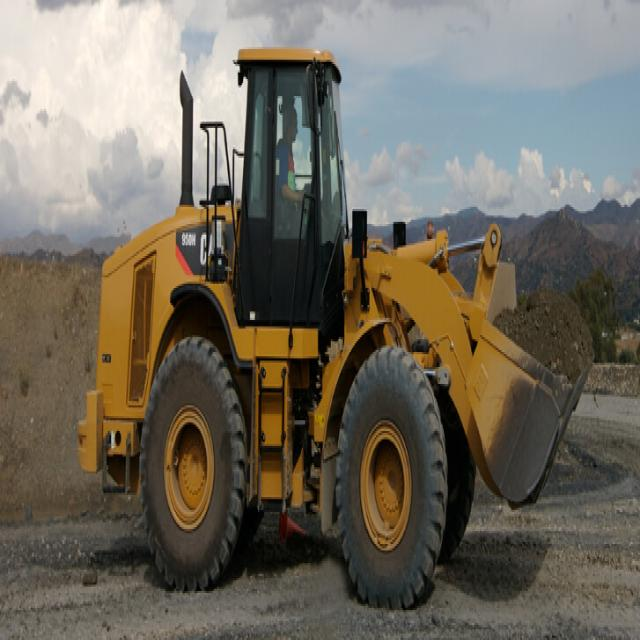buldozerpayloadergrader: (73, 30, 587, 611)
